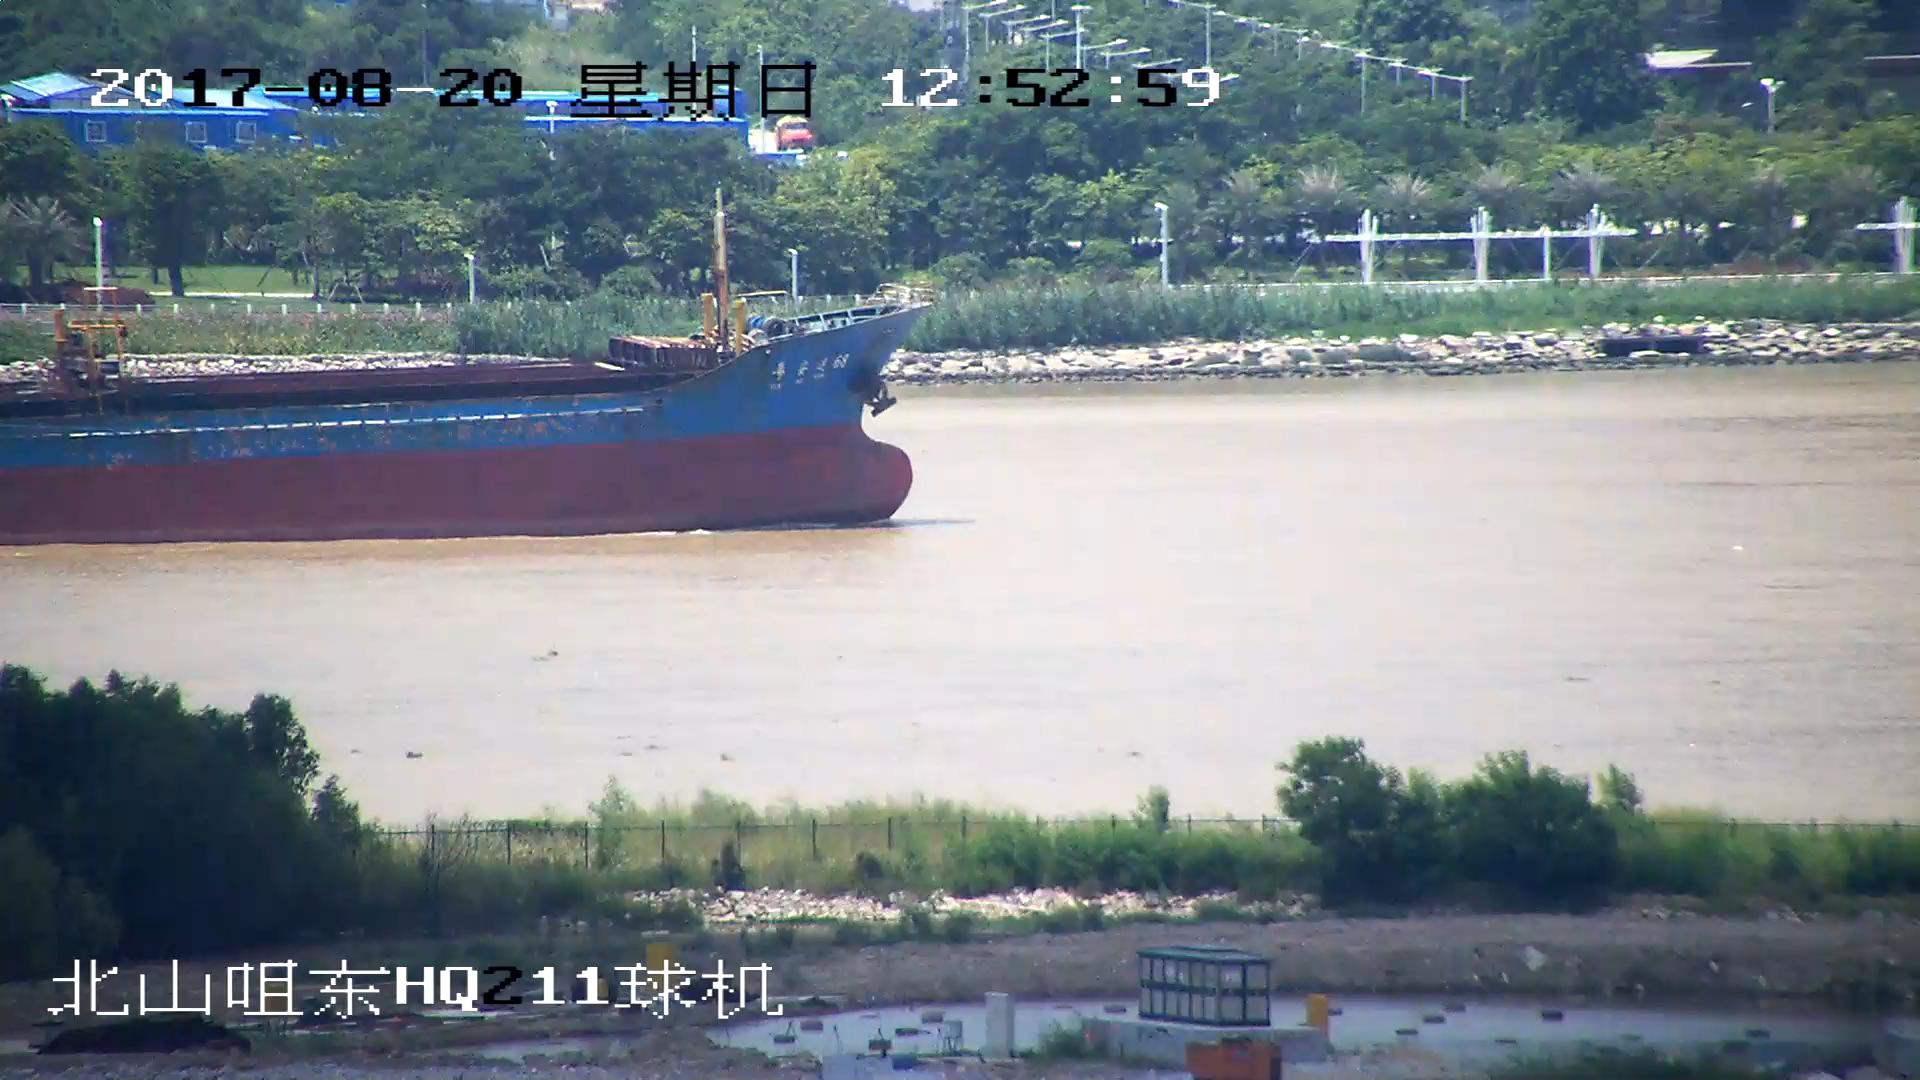general cargo ship: (1, 295, 942, 545)
